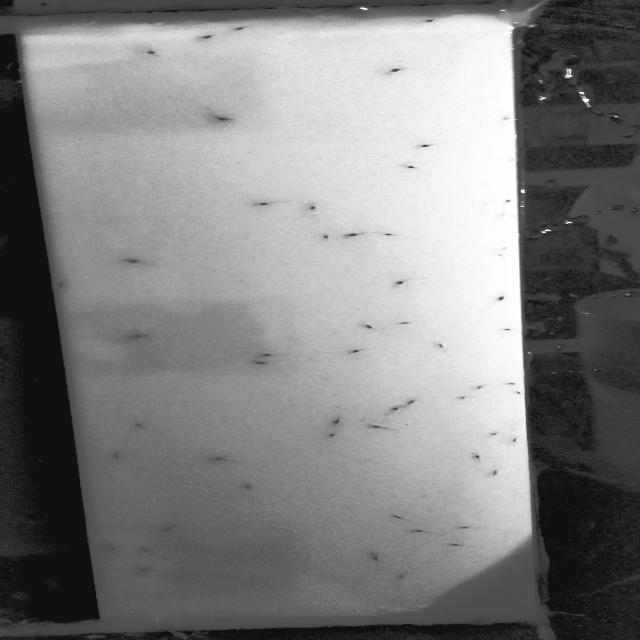shrimp: (380, 399, 422, 420), (325, 228, 372, 240), (390, 274, 421, 290), (389, 317, 418, 330), (365, 424, 402, 434), (395, 160, 423, 170), (123, 258, 150, 268), (188, 36, 215, 46), (151, 523, 173, 535), (376, 230, 404, 239), (236, 482, 256, 494), (342, 347, 365, 357), (258, 199, 286, 207), (302, 201, 318, 215), (139, 49, 163, 58), (214, 114, 233, 125), (326, 417, 346, 427), (384, 67, 405, 76), (492, 292, 509, 303), (357, 321, 375, 331), (489, 428, 507, 438), (230, 25, 250, 34), (452, 394, 468, 404), (415, 142, 432, 151), (497, 326, 515, 334), (472, 384, 488, 392), (107, 544, 121, 553), (173, 574, 188, 582), (132, 333, 147, 341), (438, 340, 450, 350), (138, 547, 154, 553), (210, 455, 226, 461), (327, 432, 342, 438), (258, 352, 276, 357), (419, 18, 434, 24), (140, 567, 152, 574), (111, 453, 123, 460), (254, 360, 266, 366), (507, 382, 516, 390), (135, 422, 148, 427), (511, 388, 523, 392), (510, 438, 525, 440)
